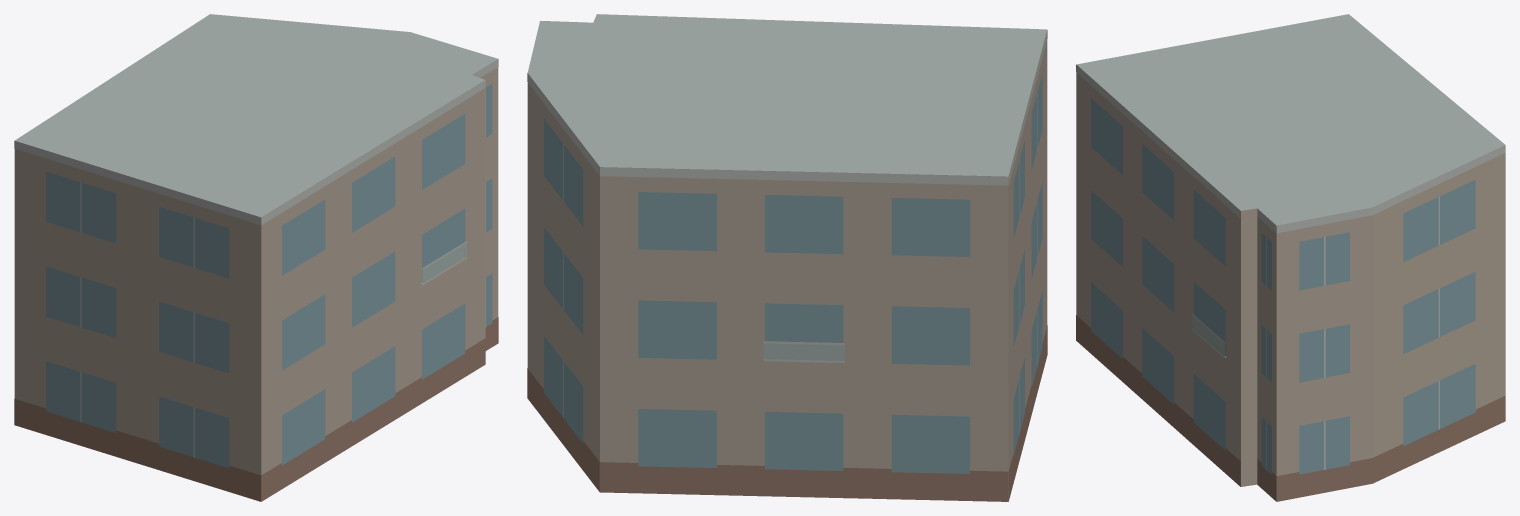
The model's file is survey-upis-32886978.glb.
3 views of the same model, side by side, from view 1: azimuth 30°, elevation 25°; view 2: azimuth 150°, elevation 25°; view 3: azimuth 270°, elevation 25° (orthographic). The views are drawn at different scales.
Visible parts, largest first — view 1: survey-upis-32886978.tmp; view 2: survey-upis-32886978.tmp; view 3: survey-upis-32886978.tmp.
Part boxes in pixels (x1=…): survey-upis-32886978.tmp: x1=14, y1=14, x2=498, y2=501; survey-upis-32886978.tmp: x1=527, y1=14, x2=1047, y2=501; survey-upis-32886978.tmp: x1=1076, y1=14, x2=1505, y2=501.
Size of the model in its own units: 14.31 by 8.7 by 12.27.
